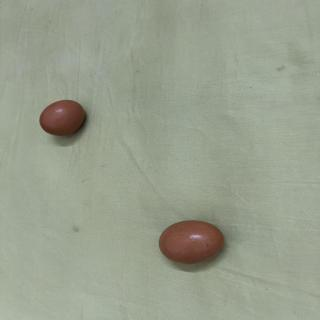Telur: (157, 220, 229, 266), (38, 101, 90, 139)
